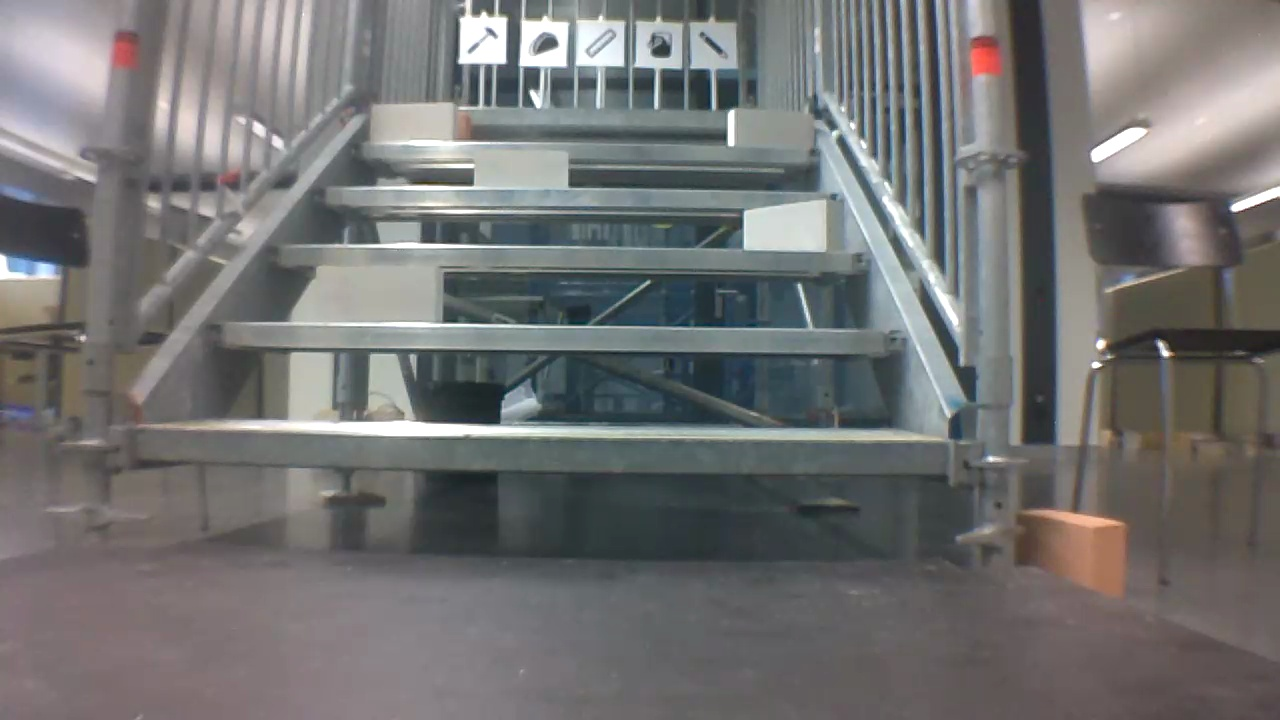brick: (317, 267, 444, 322), (743, 196, 847, 251), (475, 151, 567, 187), (726, 108, 811, 145), (371, 105, 455, 138), (457, 118, 474, 139)
bucket: (643, 28, 677, 61)
edge: (135, 425, 945, 474), (208, 323, 913, 353), (264, 245, 869, 271), (312, 188, 847, 209), (352, 140, 817, 163), (363, 105, 810, 124)
hammer: (462, 22, 501, 57)
pencil: (694, 26, 734, 62)
ruler: (582, 26, 620, 59)
stairs: (88, 7, 1019, 568)
steps: (129, 99, 952, 483)
taco: (527, 28, 562, 59)
